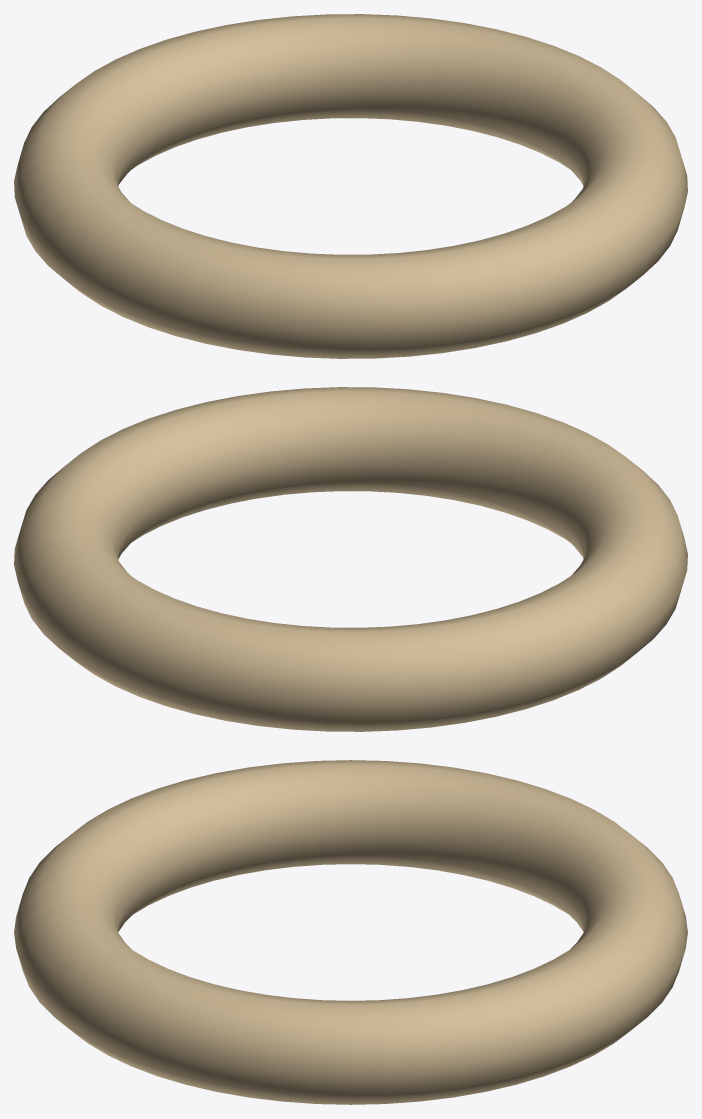
File: rope.gltf
3 views of the same model, one above another, from view 1: azimuth 30°, elevation 25°; view 2: azimuth 150°, elevation 25°; view 3: azimuth 270°, elevation 25° (orthographic).
Bounding box in the file's own units: 0.71 × 0.11 × 0.71.
